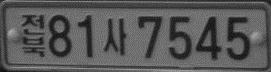1: (74, 14, 99, 57)
4: (195, 16, 221, 60)
5: (226, 16, 250, 60), (168, 16, 191, 59)
7: (137, 15, 162, 59)
8: (47, 13, 72, 57)
사: (103, 17, 127, 56)
전북_V: (20, 13, 46, 57)
